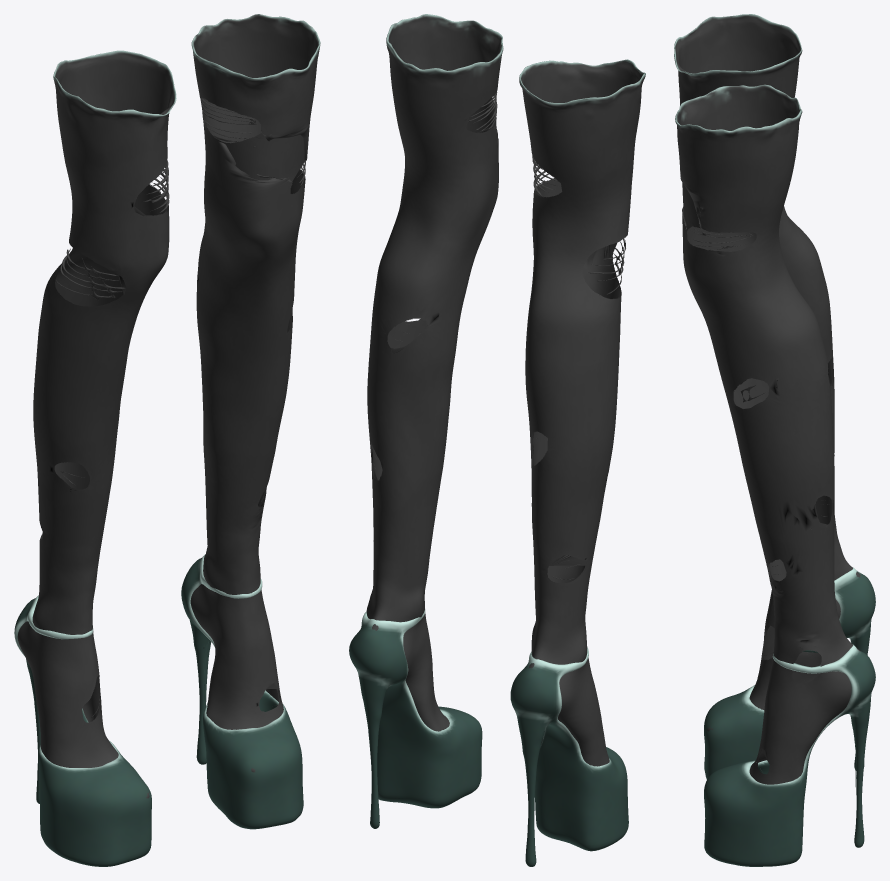
The model's file is greenPreppy-shoes.fbx.
The picture shows the model from 3 angles, left to right: view 1: azimuth 30°, elevation 25°; view 2: azimuth 150°, elevation 25°; view 3: azimuth 270°, elevation 25°; orthographic projection. The views are drawn at different scales.
Parts seen in each view (by area): view 1: tights1, heels1; view 2: tights1, heels1; view 3: tights1, heels1.
Boxes of the visible parts, x1,y1,x2,y2 form: tights1: (17, 14, 320, 798); heels1: (14, 554, 303, 866); tights1: (366, 14, 645, 766); heels1: (349, 609, 628, 866); tights1: (674, 14, 860, 784); heels1: (704, 567, 875, 866).
Bounding box in the file's own units: 1.85 × 5.5 × 1.35.
